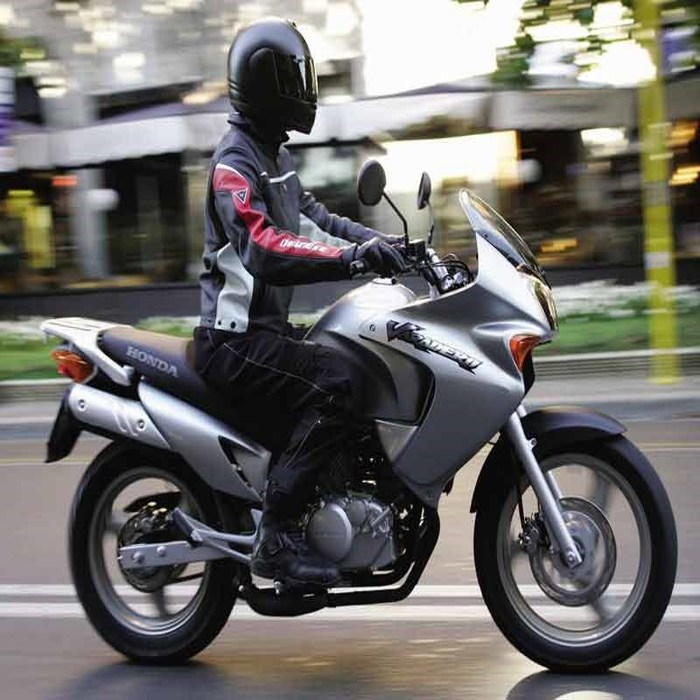h: (220, 14, 331, 152)
